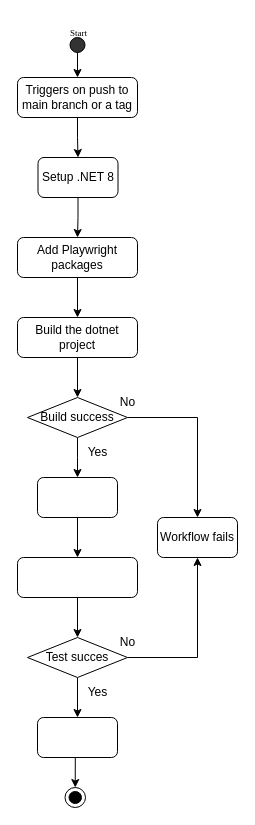
This 255x825 diagram has some shape labels left out. The shapes that lost their labels are listed below. From the top down, each one's box as (x1, y1, x2, y2) in pixels, then its label:
(36, 476, 118, 518): Install Playwright
(16, 556, 138, 598): Run all the tests
(36, 716, 118, 758): Workflow success
